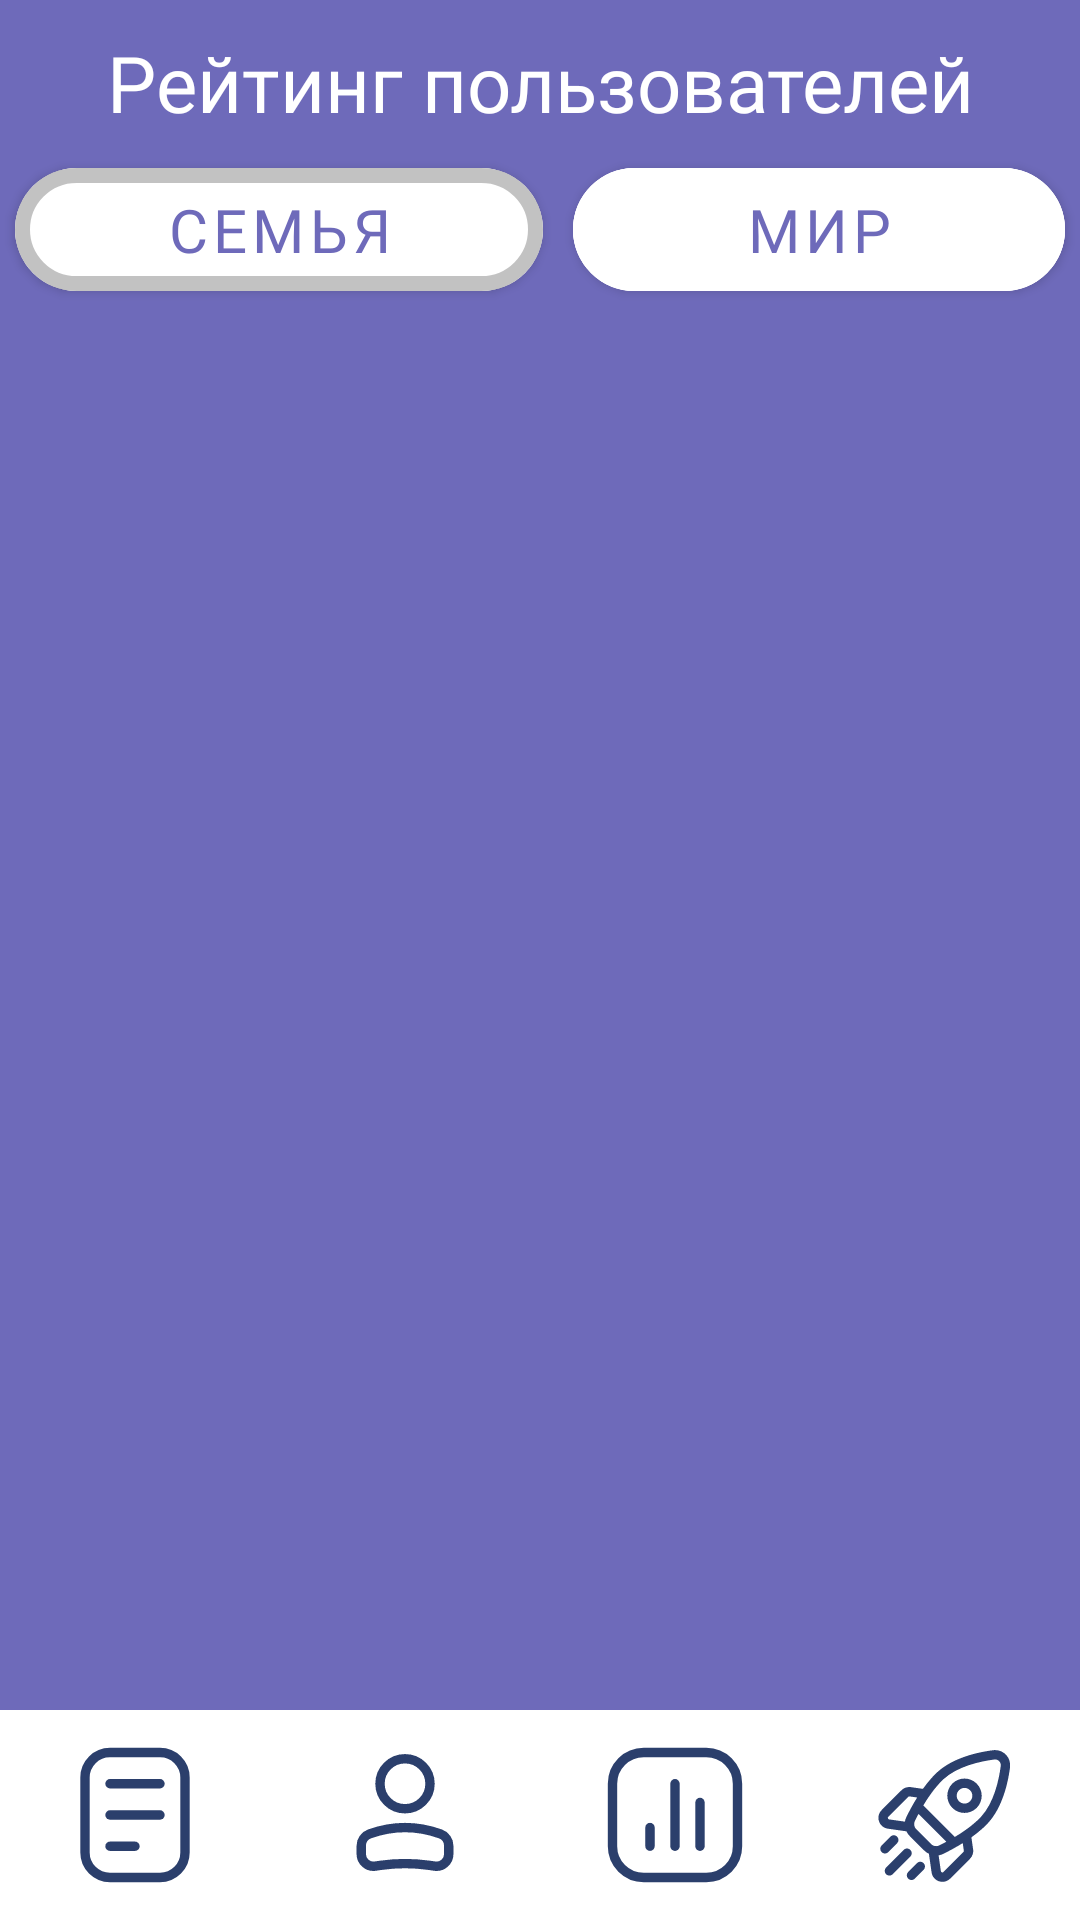

Icons on this 1080px x 1920px Android screen, each with the point to tap as [x,y]:
list: [135,1815]
profile: [405,1812]
statistics: [675,1815]
